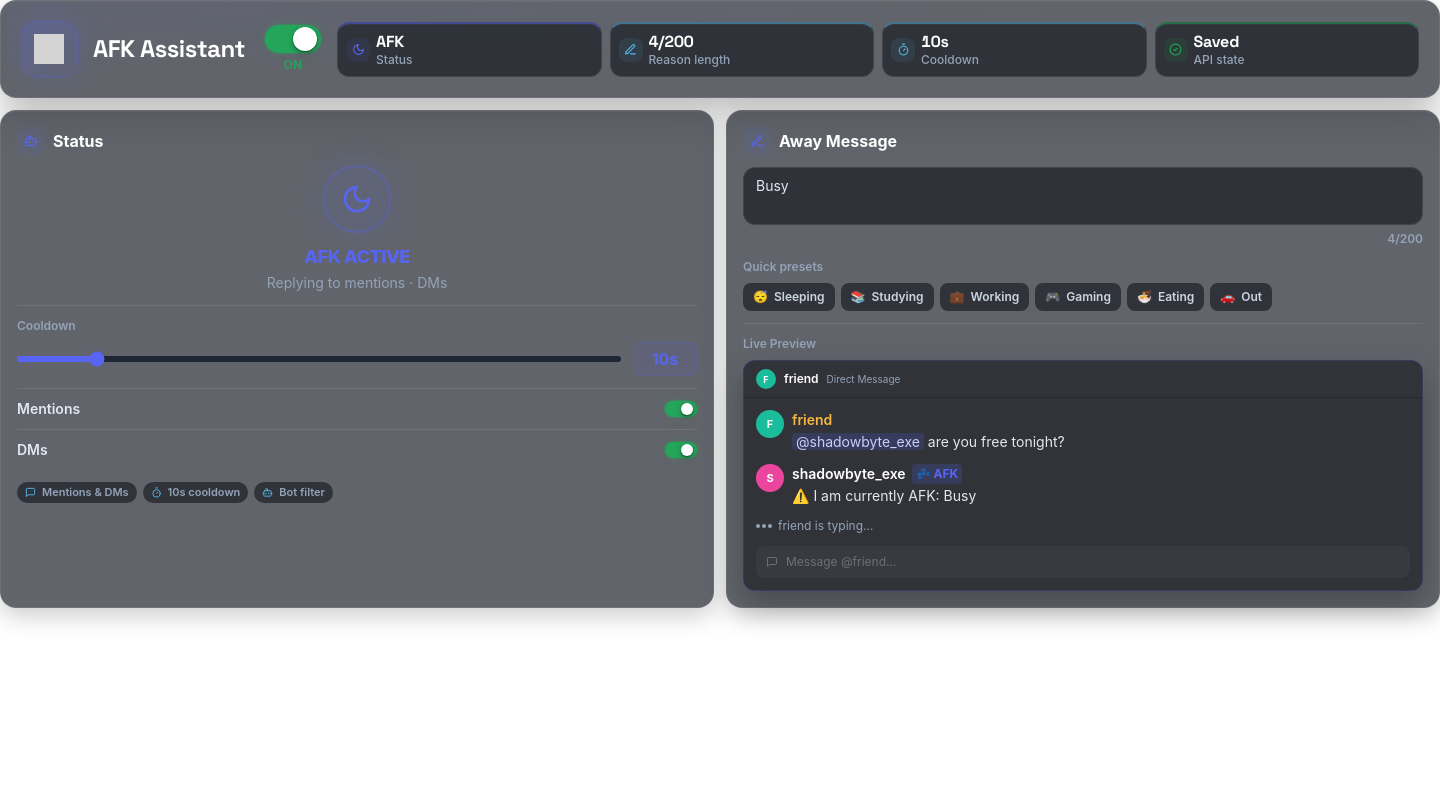
Test: AFKFeature › fills the away message and simulator from a preset
Click the button "😴 Sleeping". click: (789, 297)
box: [743, 283, 835, 311]
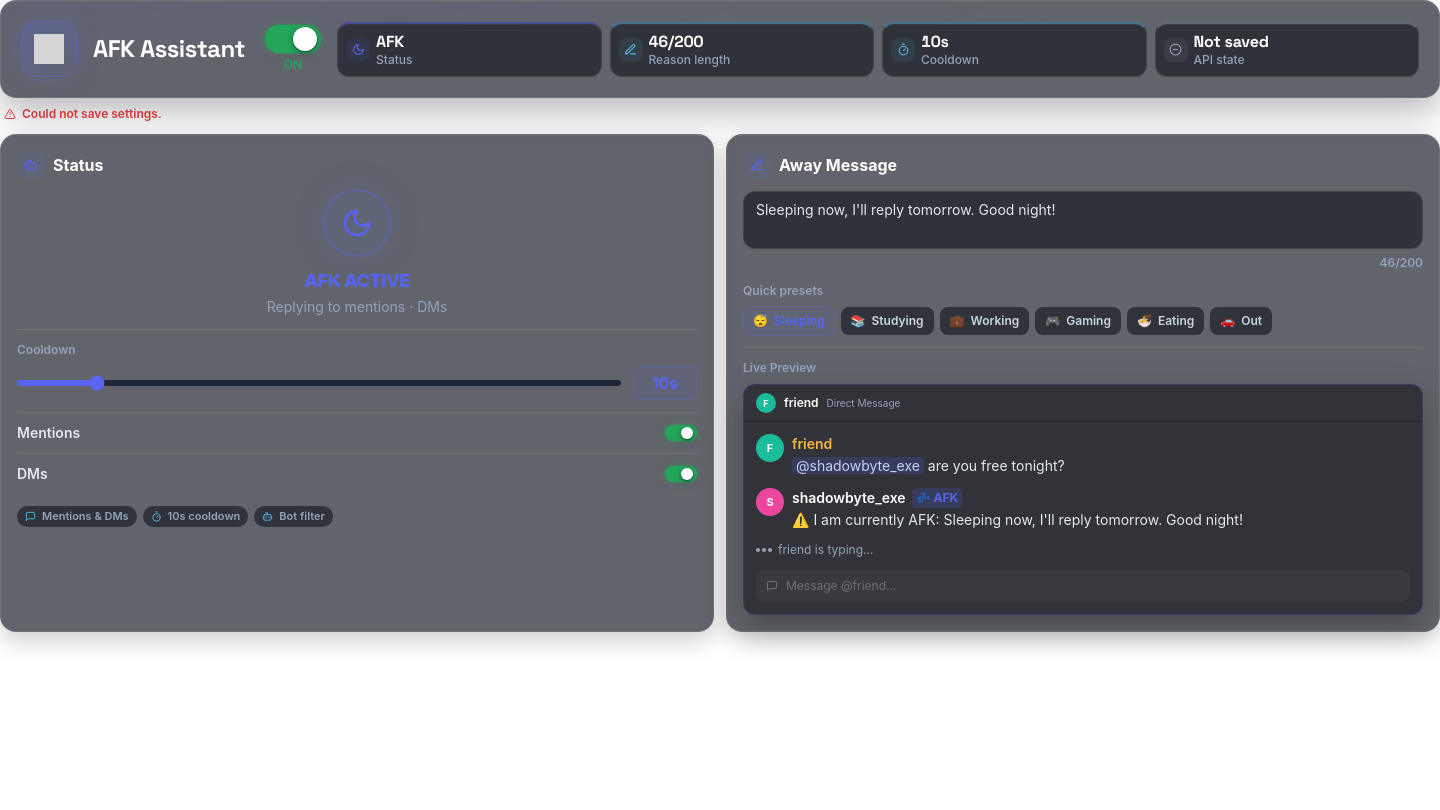
Now the text box showing "Busy" holds "Sleeping now, I'll reply tomorrow. Good night!", box [743, 191, 1423, 249]
Now the text "I am currently AFK: Sleeping now" is shown, box [792, 510, 1243, 530]
